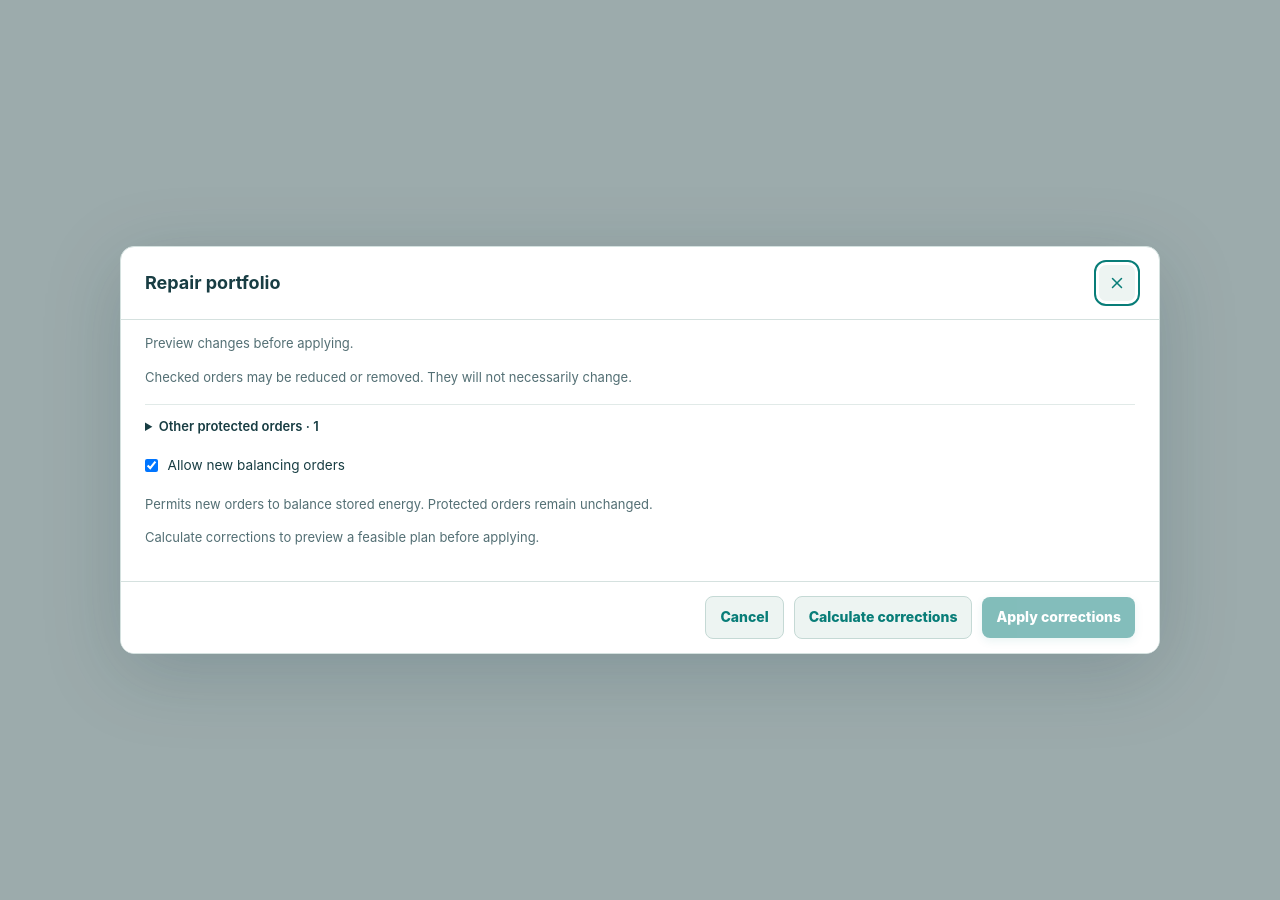
Test case: treats legacy or group evidence as involvement, not mandatory individual permission
Click the button "Calculate corrections" at (883, 617), box [794,596,972,638]
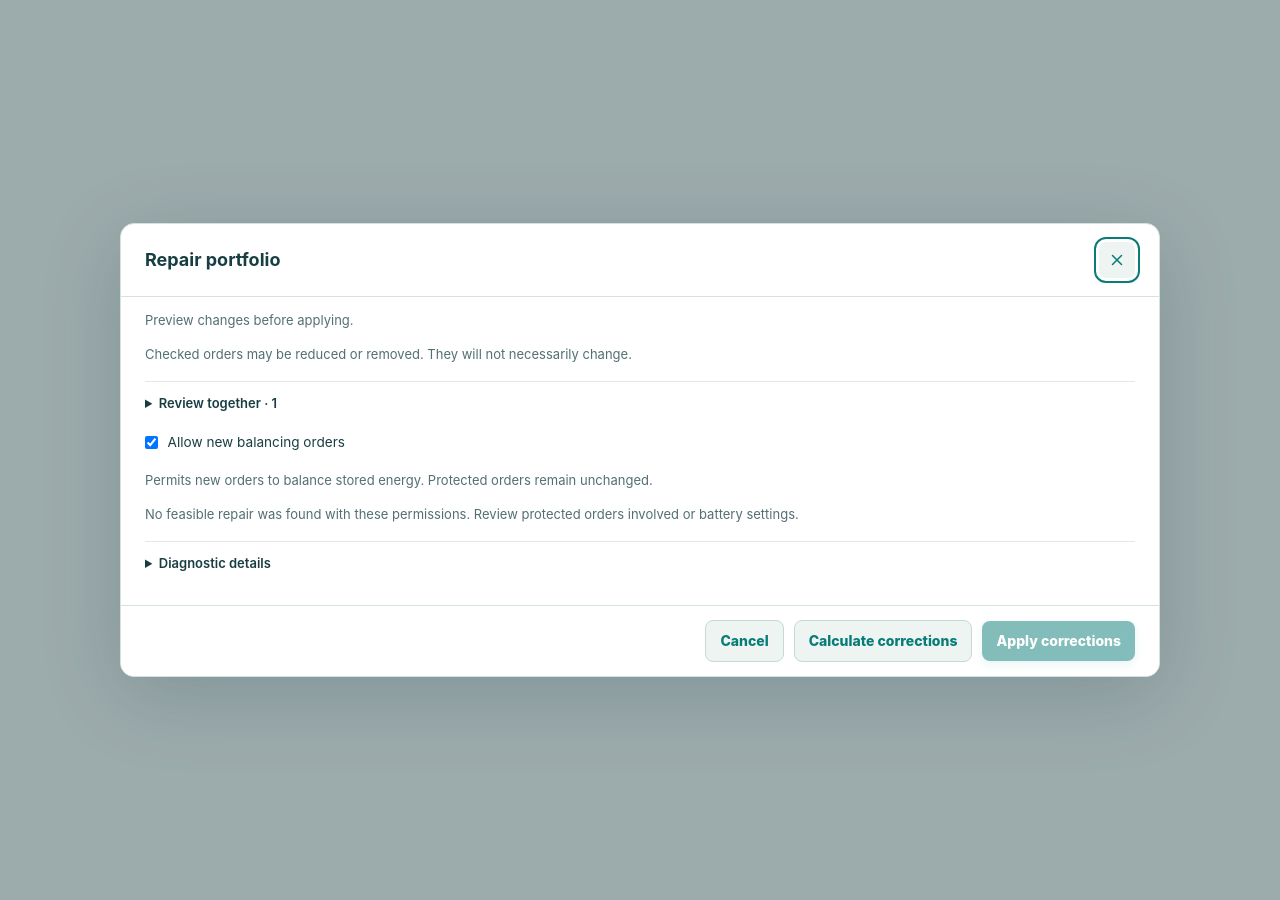
Check: the button "Apply corrections" is disabled, box [982,621,1135,661]
Check: the heading "Review together · 1" is shown, box [159,395,277,411]
Check: the message shows "Review protected orders involved", box [145,506,799,522]
